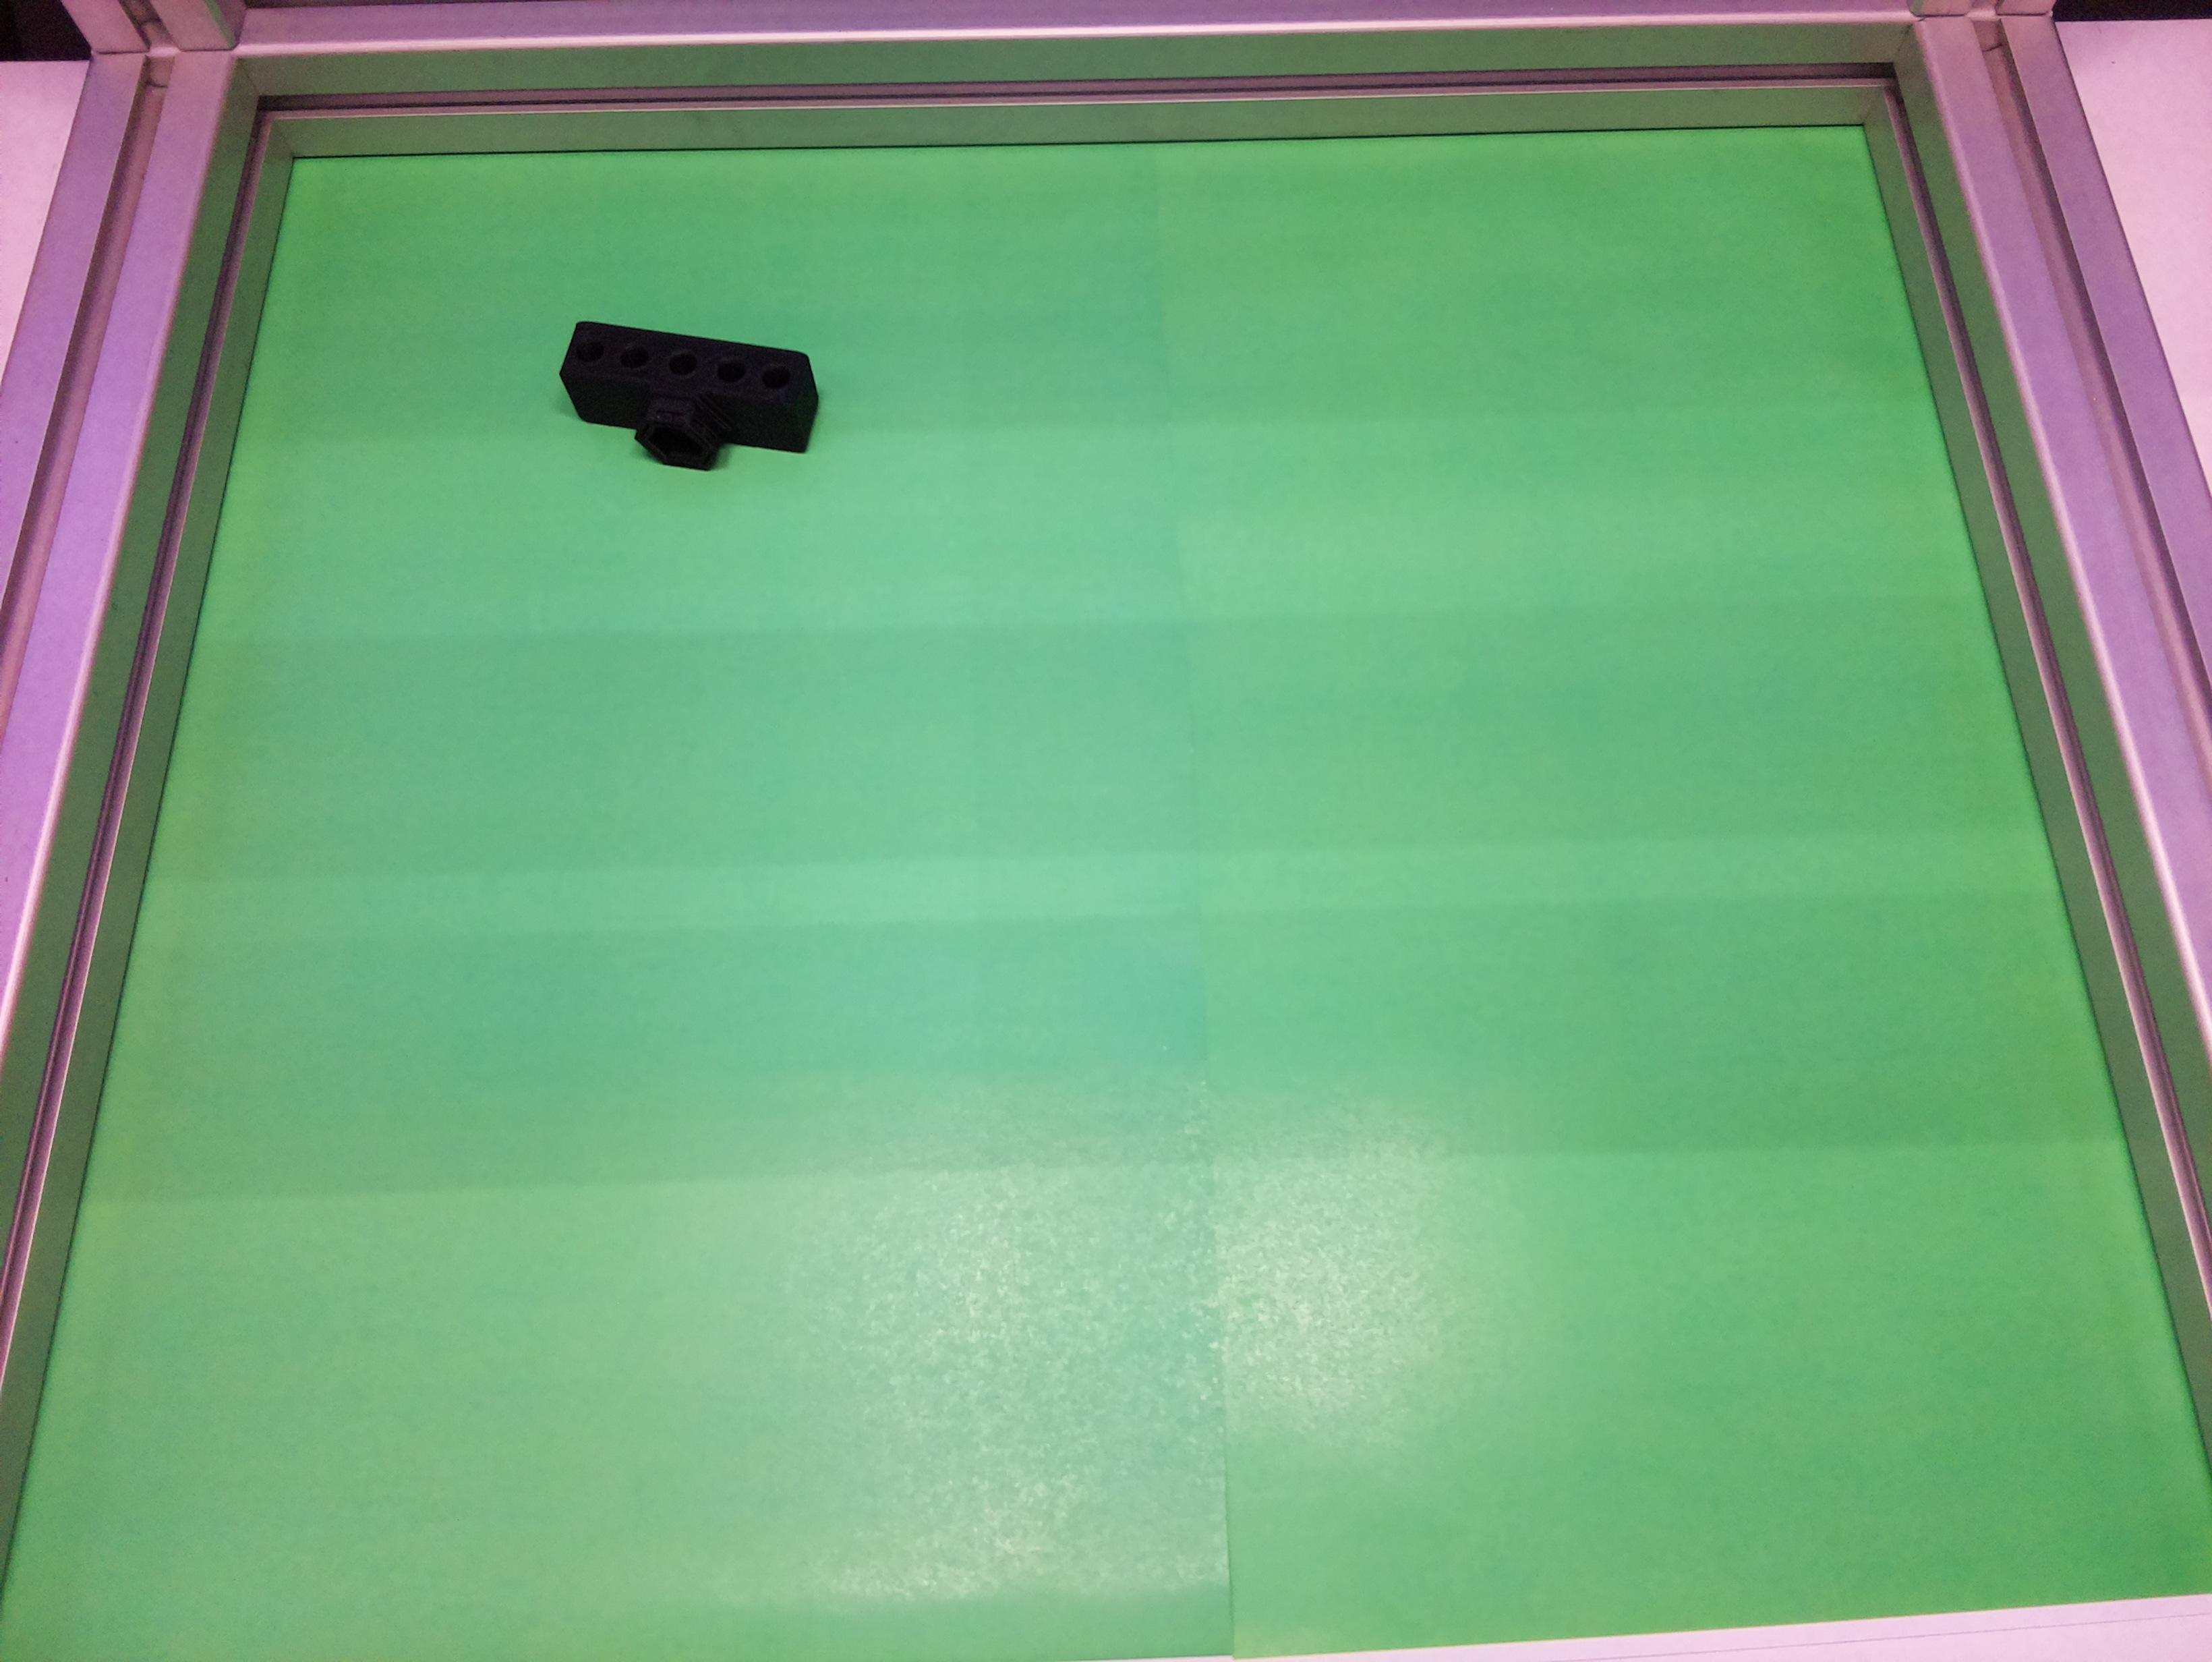bit_holder: (550, 319, 826, 485)
